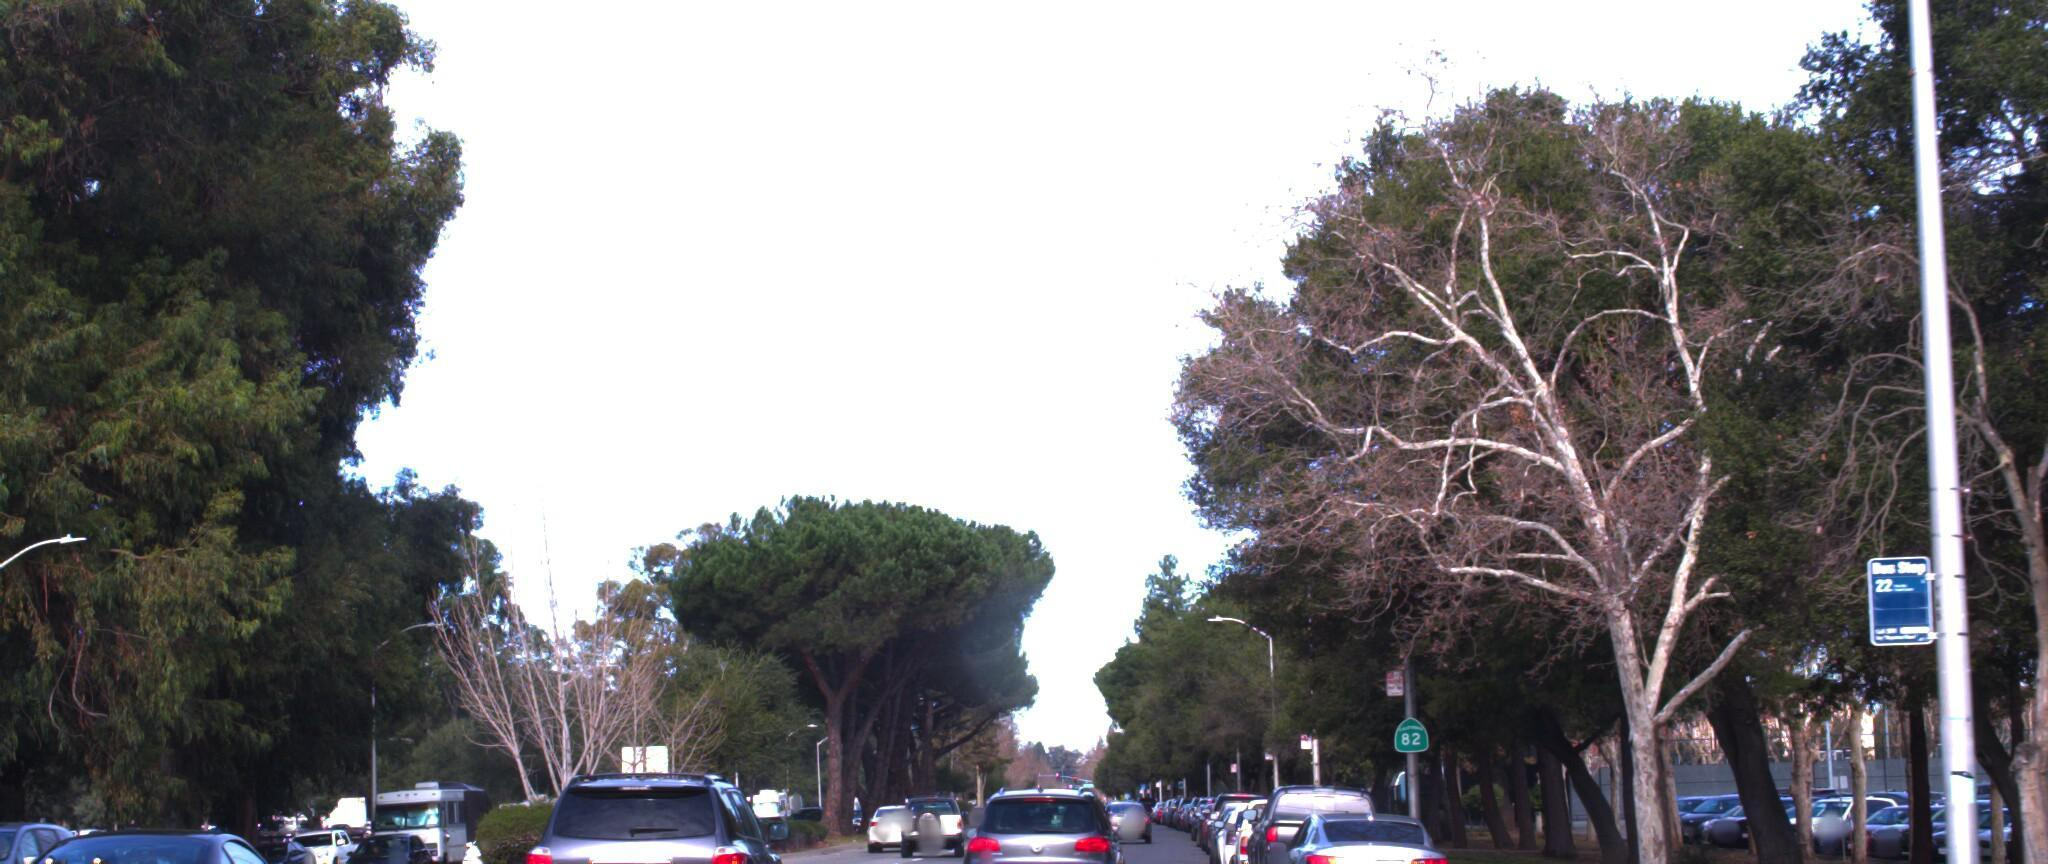car: (507, 737, 803, 864), (0, 799, 345, 864), (1242, 754, 1409, 864), (1258, 778, 1464, 864), (955, 765, 1132, 864), (1225, 760, 1358, 864), (0, 790, 114, 864), (0, 818, 10, 864)
